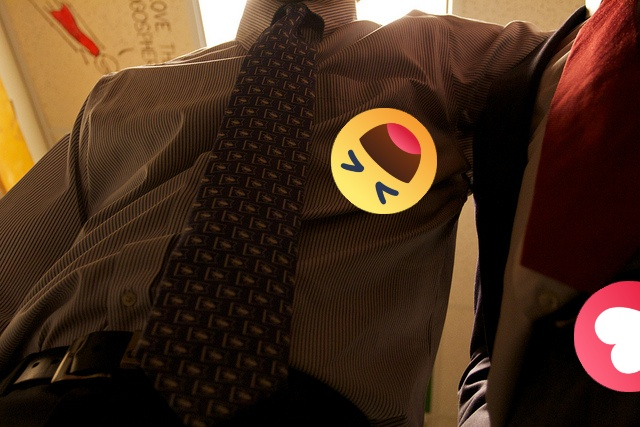haha: (331, 108, 437, 214)
love: (574, 281, 640, 392)
